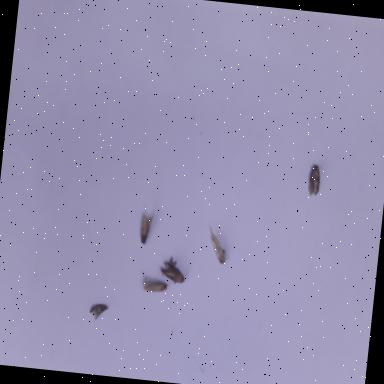pbw: (159, 256, 187, 286), (139, 270, 170, 294), (209, 234, 231, 266), (308, 165, 323, 198), (89, 304, 109, 324), (140, 216, 154, 244)
